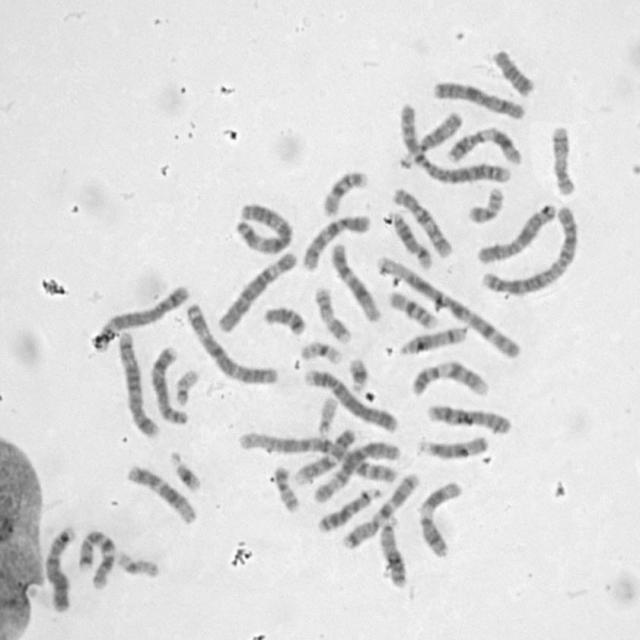A1: (374, 252, 524, 361), (234, 426, 402, 484)
A2: (396, 99, 514, 186), (477, 200, 581, 297)
A3: (182, 297, 281, 385), (232, 196, 295, 256)
B4: (300, 364, 399, 433), (42, 521, 78, 614)
B5: (89, 280, 192, 352), (114, 326, 162, 440)
C10: (388, 182, 455, 259), (298, 209, 373, 273)
C11: (415, 477, 464, 558), (445, 123, 525, 166)
C12: (123, 460, 200, 526), (327, 238, 381, 324)
C6: (214, 247, 299, 333), (310, 435, 400, 505)
C7: (340, 467, 422, 550), (74, 524, 119, 592)
C8: (147, 342, 189, 426), (424, 400, 513, 435)
C9: (290, 424, 357, 486), (407, 356, 492, 398)
D13: (313, 482, 385, 534), (376, 512, 410, 589)
D14: (388, 207, 434, 271), (396, 322, 469, 357)
D15: (397, 107, 466, 169), (415, 431, 491, 460)
E16: (319, 165, 370, 217), (384, 286, 440, 331)
E17: (311, 283, 353, 345), (548, 121, 578, 197)
E18: (488, 44, 536, 98), (260, 301, 308, 337)
F19: (113, 547, 162, 580), (297, 336, 345, 366)
F20: (464, 182, 507, 225), (271, 462, 301, 514)
G21: (168, 447, 204, 493), (344, 353, 370, 394)
G22: (171, 364, 201, 408), (314, 392, 339, 437)
X: (474, 199, 559, 266), (430, 76, 528, 121)
